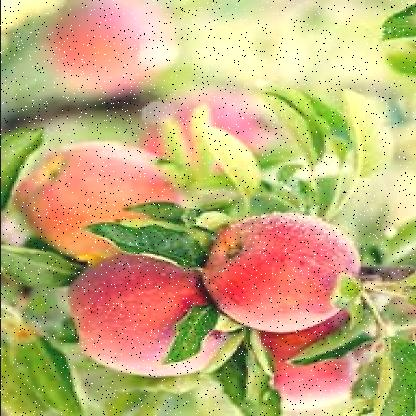apple: (61, 257, 219, 381), (22, 142, 182, 260), (214, 216, 360, 334), (247, 312, 364, 414)
